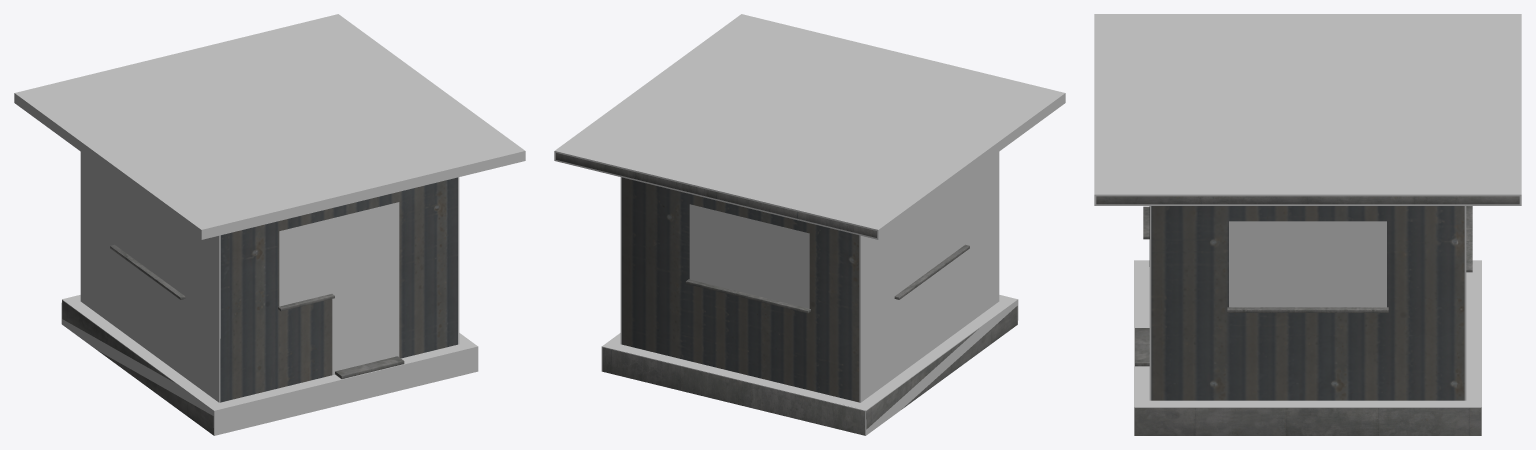
File: SM_Gate_Building.fbx
3 views of the same model, side by side, from view 1: azimuth 30°, elevation 25°; view 2: azimuth 150°, elevation 25°; view 3: azimuth 270°, elevation 25° (orthographic). The views are drawn at different scales.
Parts seen in each view (by area): view 1: SM_Gate_Building_ConvexHulls, SM_Gate_Building; view 2: SM_Gate_Building_ConvexHulls, SM_Gate_Building; view 3: SM_Gate_Building_ConvexHulls, SM_Gate_Building.
Boxes of the visible parts, x1=… form: SM_Gate_Building_ConvexHulls: x1=14, y1=14, x2=525, y2=435; SM_Gate_Building: x1=62, y1=177, x2=457, y2=435; SM_Gate_Building_ConvexHulls: x1=554, y1=14, x2=1065, y2=435; SM_Gate_Building: x1=556, y1=153, x2=1017, y2=435; SM_Gate_Building_ConvexHulls: x1=1094, y1=14, x2=1521, y2=435; SM_Gate_Building: x1=1096, y1=196, x2=1519, y2=435.
Bounding box in the file's own units: 540 × 540 × 360.
Materials: 6 (5 with a texture image).
